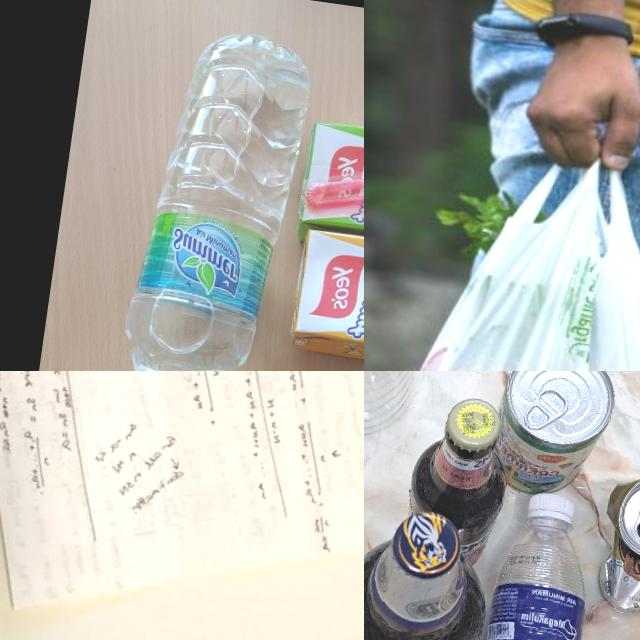aba de lata: (522, 384, 570, 432)
garrafa de vidro: (401, 392, 518, 572), (364, 501, 497, 640)
garrafa plástica: (110, 21, 315, 371), (461, 513, 598, 640)
lata: (485, 371, 621, 504), (593, 472, 640, 622)
papel: (0, 371, 364, 640)
sacola plástica: (364, 128, 640, 371)
tampa plástica: (526, 492, 576, 526)
